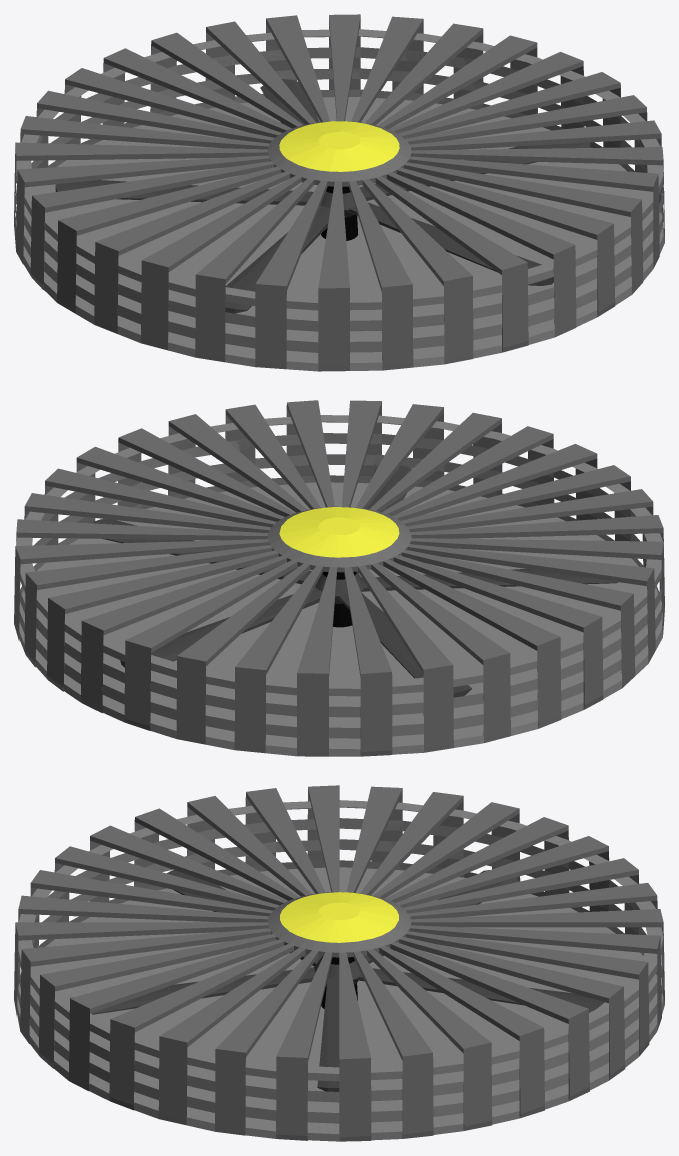
File: fan.glb
3 views of the same model, one above another, from view 1: azimuth 30°, elevation 25°; view 2: azimuth 150°, elevation 25°; view 3: azimuth 270°, elevation 25° (orthographic).
Parts seen in each view (by area): view 1: Cage, Cube.003, Cube.001, Cube.005, Cube.002, Cylinder, Cube.004; view 2: Cage, Cube.005, Cube.004, Cube.003, Cylinder, Cube.002, Cube.001; view 3: Cage, Cube.002, Cube.004, Cube.001, Cylinder.
Part boxes in pixels (x1=…): Cage: x1=14, y1=14, x2=664, y2=371; Cube.003: x1=225, y1=205, x2=330, y2=313; Cube.001: x1=348, y1=202, x2=553, y2=285; Cube.005: x1=55, y1=180, x2=313, y2=205; Cube.002: x1=359, y1=142, x2=590, y2=200; Cylinder: x1=320, y1=186, x2=357, y2=240; Cube.004: x1=260, y1=79, x2=319, y2=127; Cage: x1=14, y1=400, x2=664, y2=756; Cube.005: x1=338, y1=592, x2=471, y2=697; Cube.004: x1=120, y1=587, x2=322, y2=667; Cube.003: x1=362, y1=569, x2=618, y2=591; Cylinder: x1=315, y1=571, x2=364, y2=627; Cube.002: x1=92, y1=519, x2=311, y2=584; Cube.001: x1=357, y1=465, x2=411, y2=573; Cage: x1=14, y1=785, x2=664, y2=1141; Cube.002: x1=317, y1=978, x2=339, y2=1091; Cube.004: x1=357, y1=968, x2=604, y2=1012; Cube.001: x1=69, y1=967, x2=315, y2=1014; Cylinder: x1=314, y1=956, x2=361, y2=1008.
Size of the model in its own units: 2.01 by 0.3172 by 2.01.
Materials: 1 (1 with a texture image).
